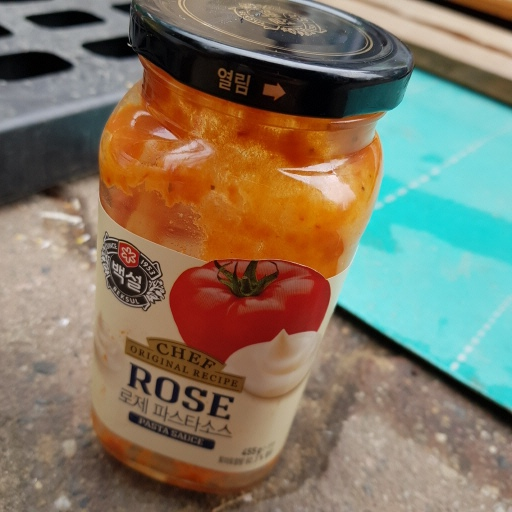Glass_5: (84, 1, 416, 483)
